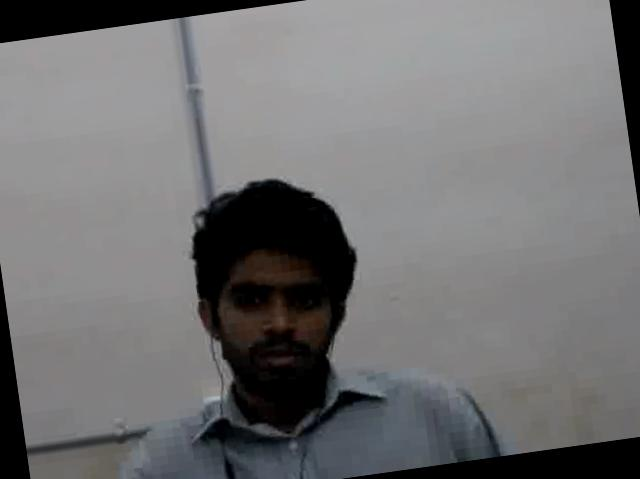bosan: (213, 242, 346, 393)
